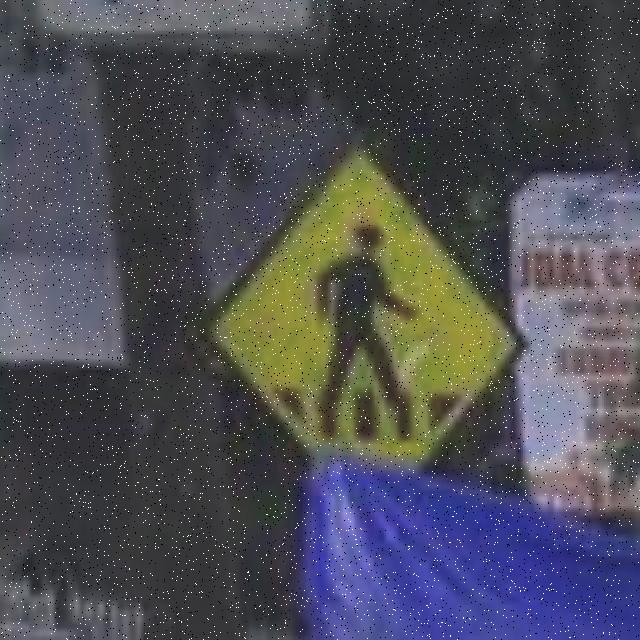Przejscie dla pieszych: (229, 153, 518, 444)
